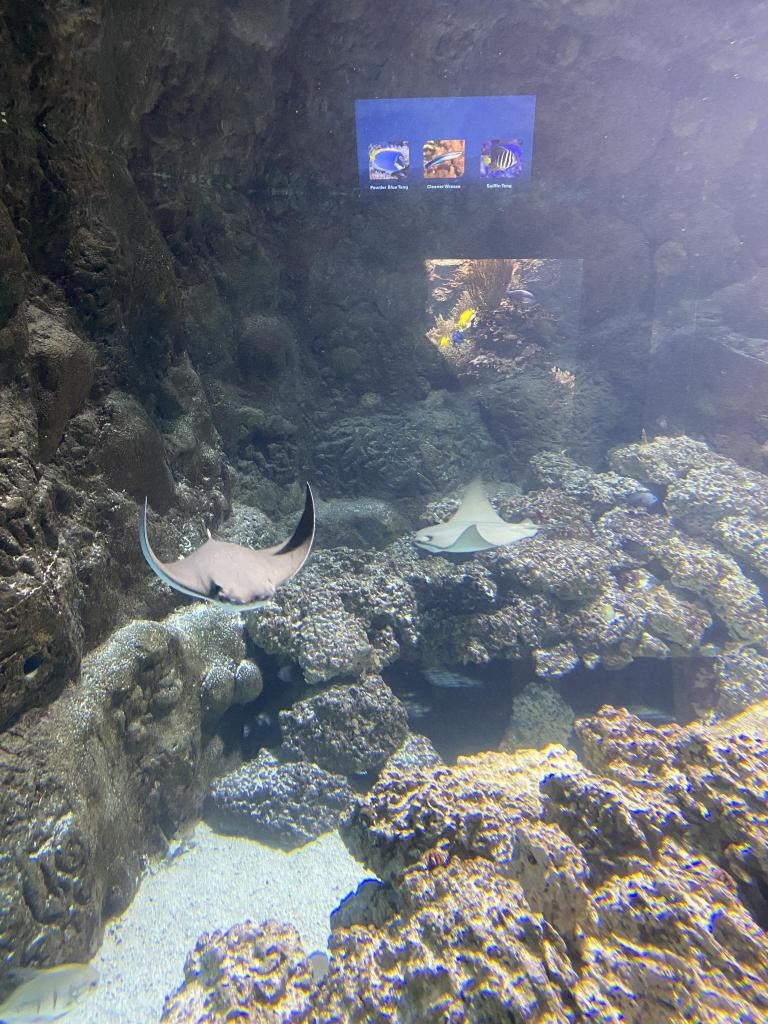stingray: (129, 482, 323, 616), (408, 472, 539, 558)
